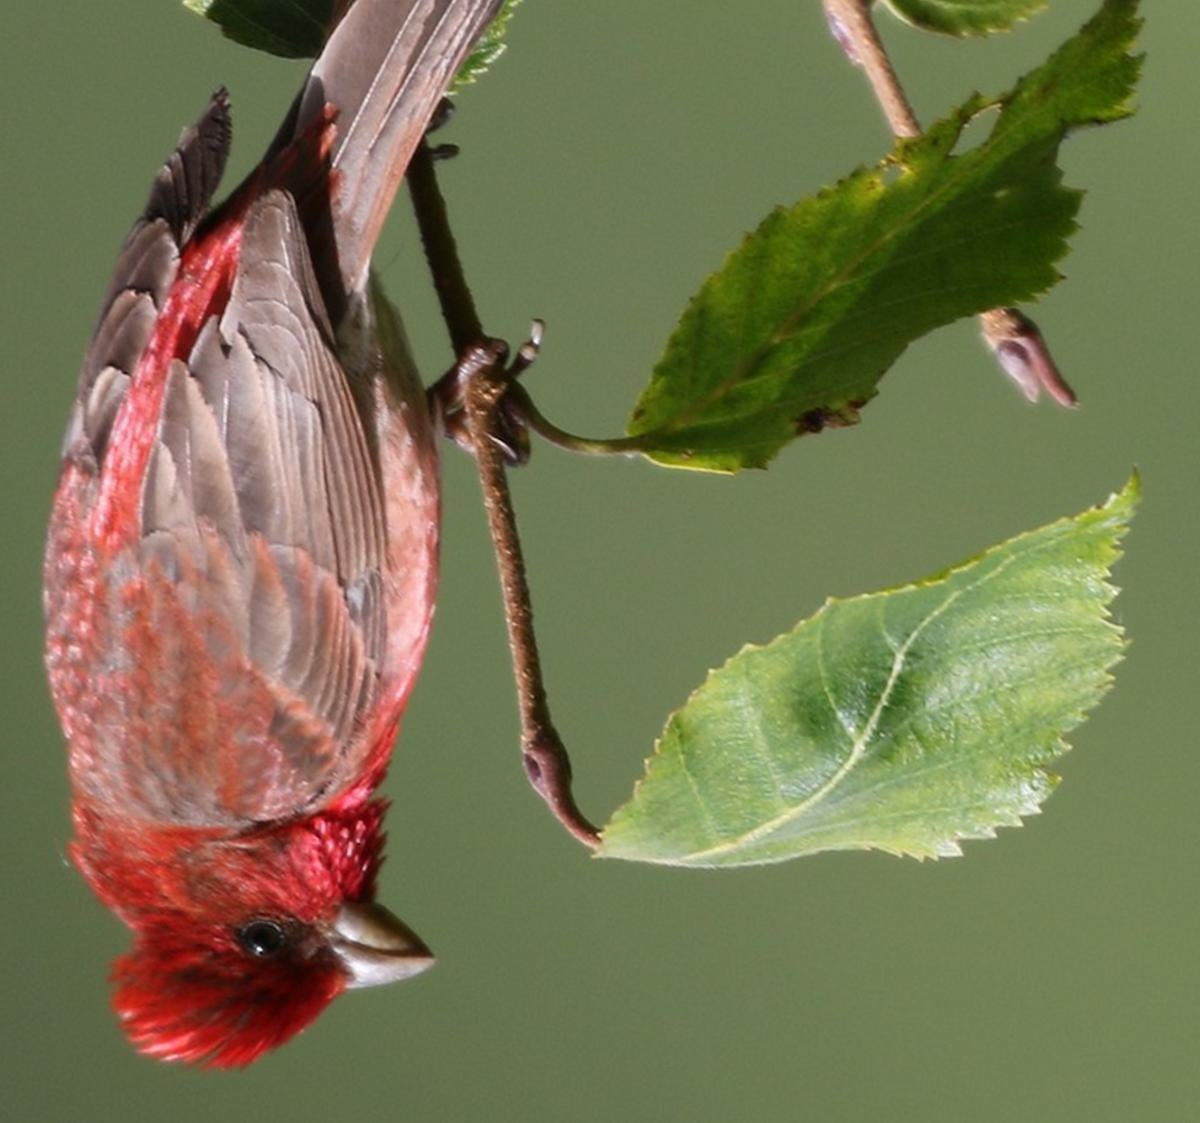rosefinch: (109, 53, 504, 1079)
